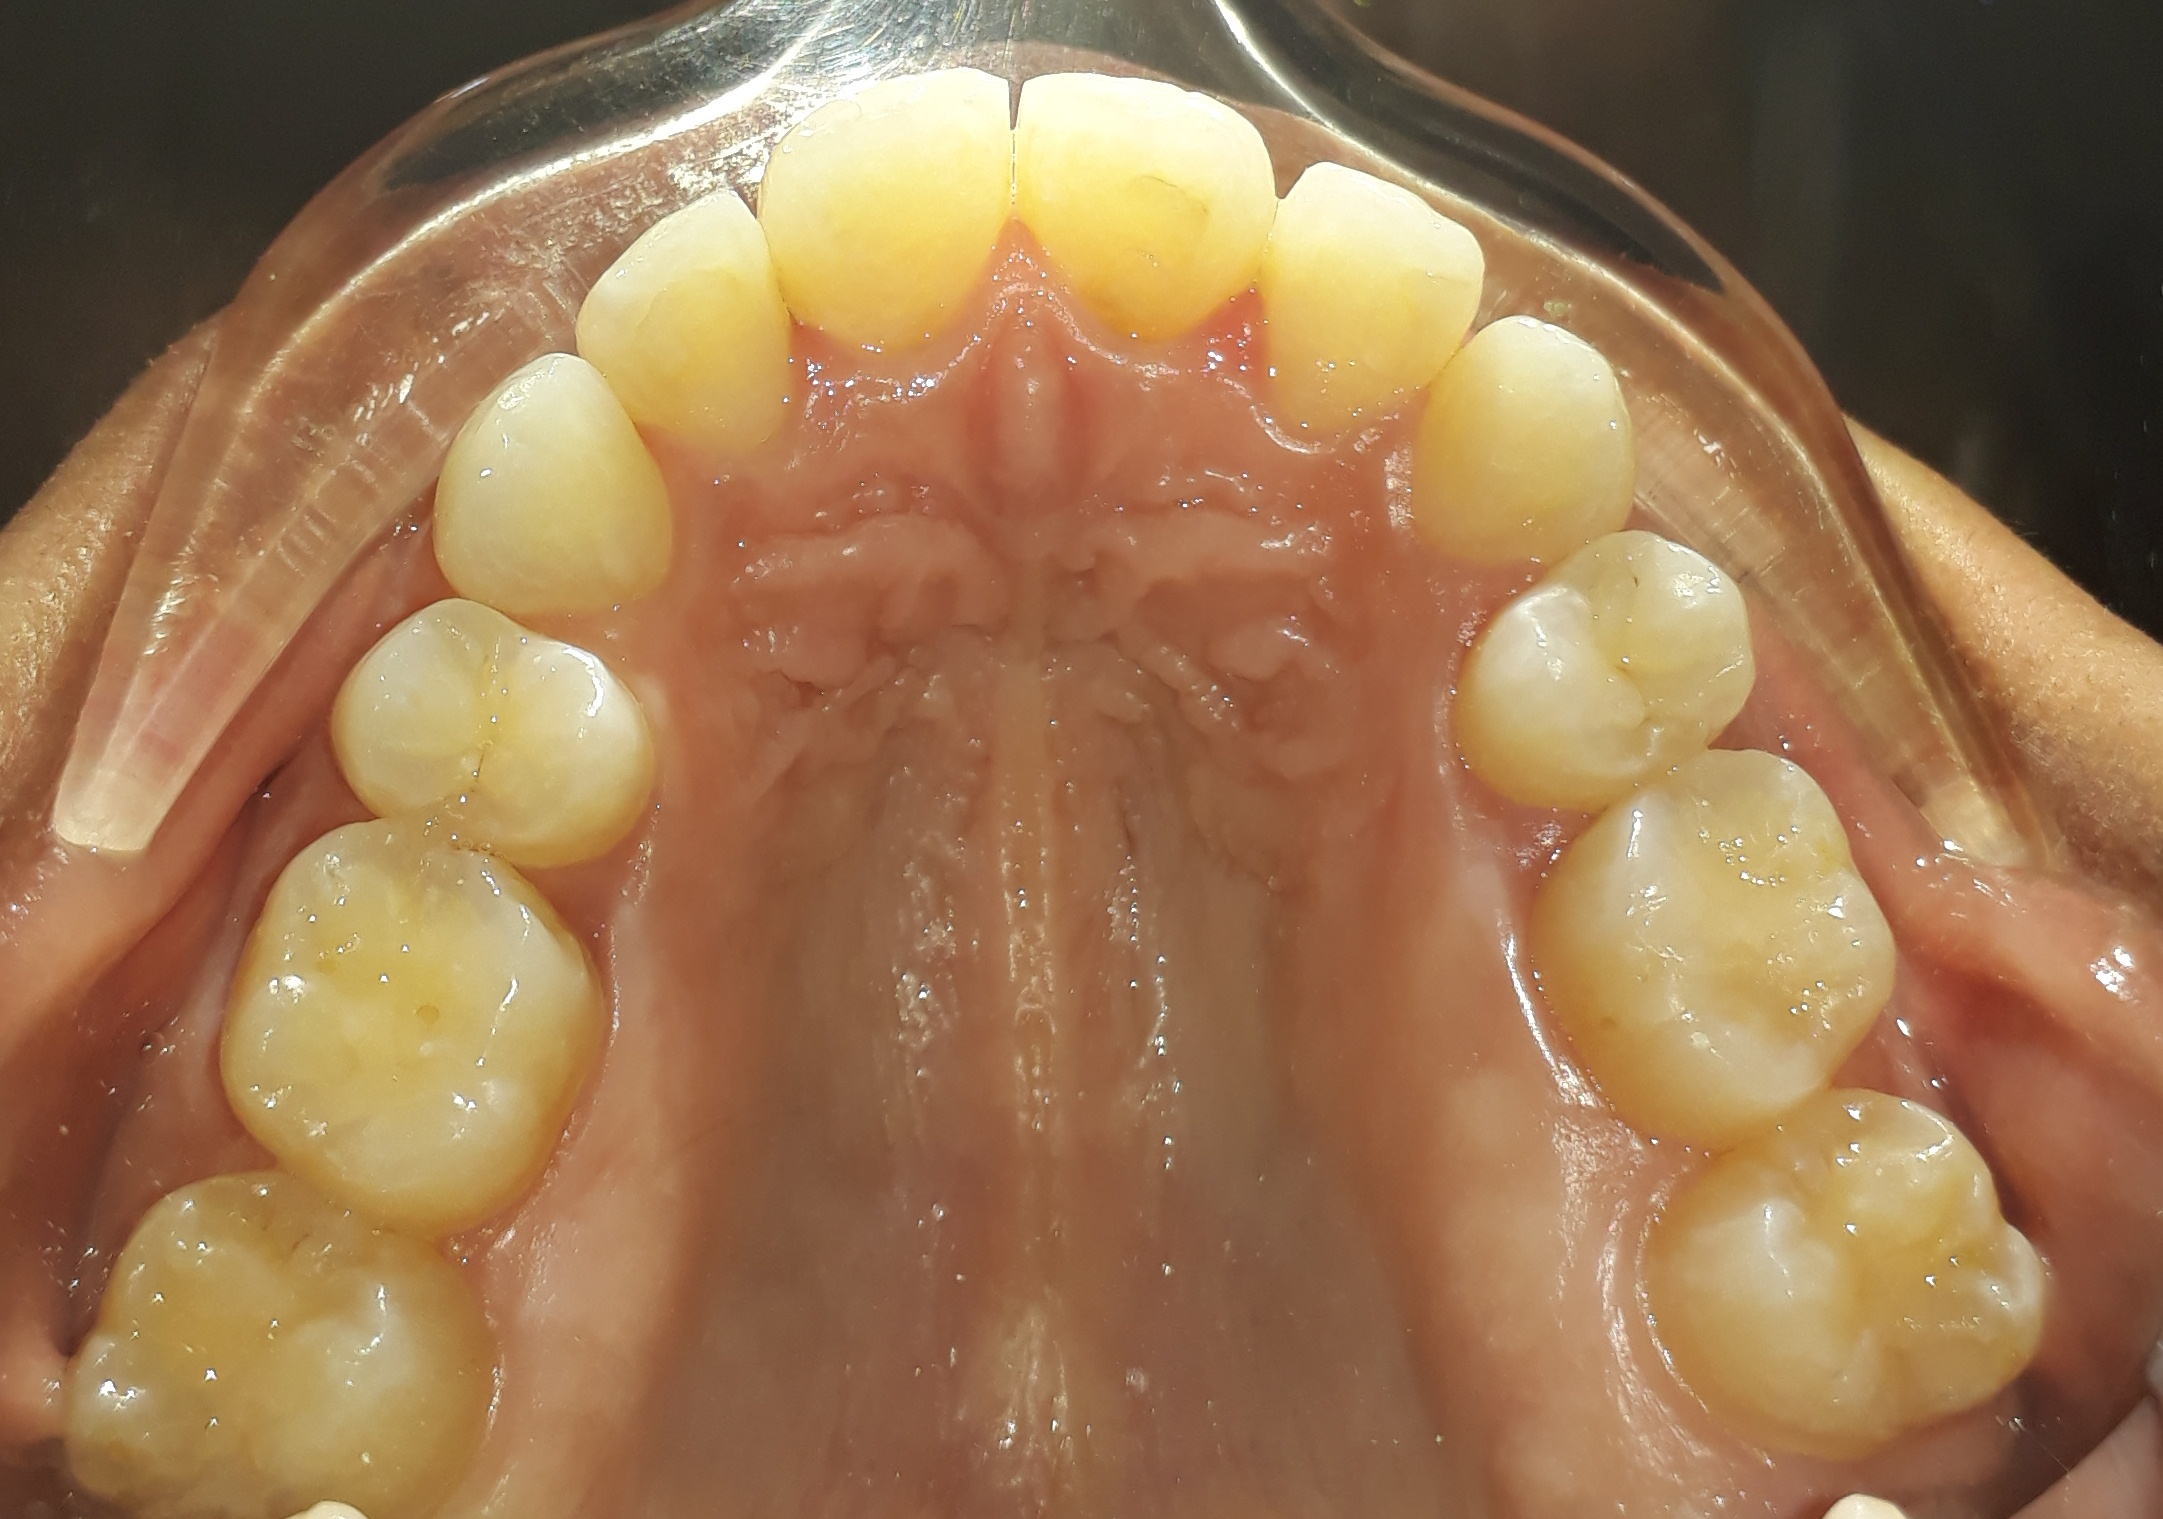1st Molar: (56, 1174, 500, 1519), (1652, 1092, 2053, 1460)
1st Premolar: (325, 597, 662, 865), (1451, 526, 1759, 806)
2nd Premolar: (220, 833, 602, 1230), (1522, 759, 1897, 1139)
Canine: (427, 347, 684, 612), (1414, 316, 1642, 566)
Central Incisor: (759, 66, 1016, 365), (1016, 66, 1275, 357)
Lateral Incisor: (574, 184, 805, 482), (1261, 153, 1489, 436)
